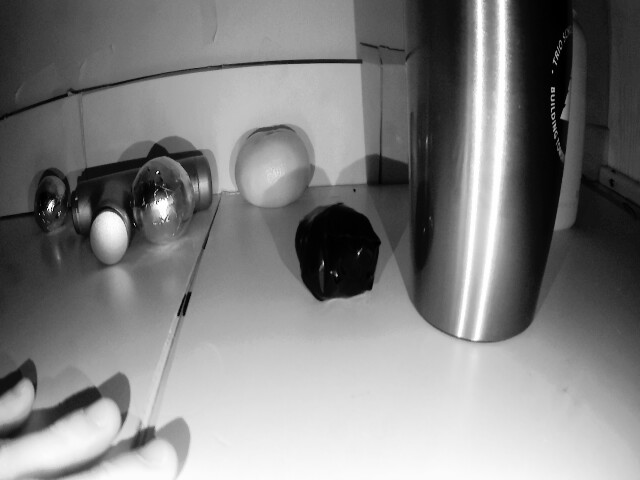black: (133, 158, 197, 245), (29, 177, 77, 228)
silver: (293, 202, 385, 313)
